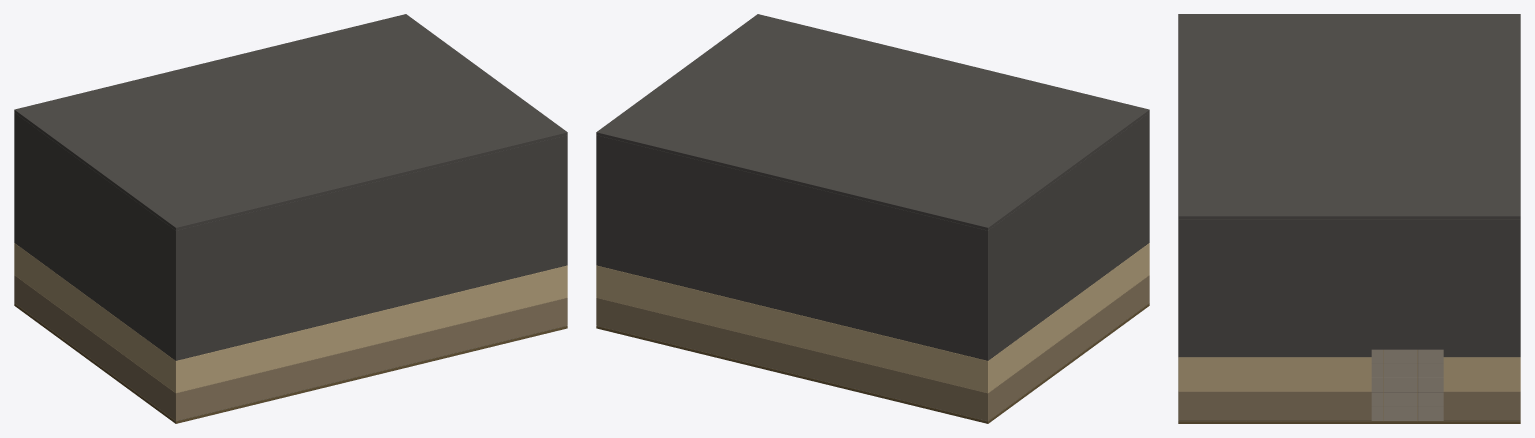
Rendered from gen-hold.glb.
3 views of the same model, side by side, from view 1: azimuth 30°, elevation 25°; view 2: azimuth 150°, elevation 25°; view 3: azimuth 270°, elevation 25° (orthographic). The views are drawn at different scales.
Visible parts, largest first — view 1: THE HOLD; view 2: THE HOLD; view 3: THE HOLD.
Part boxes in pixels (box(x1,y1,x2,y2)): THE HOLD: box(14, 14, 567, 423); THE HOLD: box(596, 14, 1149, 423); THE HOLD: box(1178, 14, 1520, 423).
Bounding box in the file's own units: 14 × 6.7 × 10.
